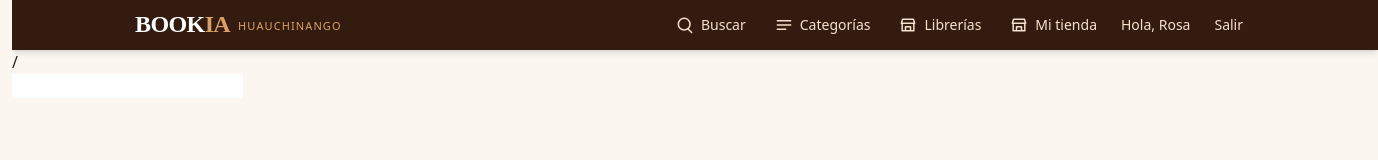
Test: Header account link › hides favorites and the profile for a store owner, and links to their store panel
The image size is (1378, 160).
Check: the text "Hola, Rosa" is shown, box [1121,15,1190,34]
Check: the button "Salir" is shown, box [1202,9,1255,41]
Click the link "Mi tienda": click(1053, 25) [1009,15,1097,35]
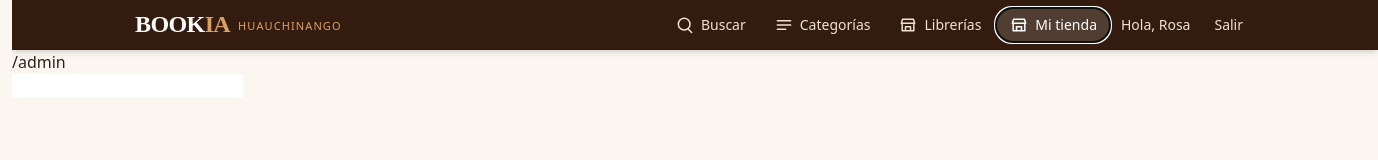
Check: the text with test id "location" reads "/admin", box [12,52,66,74]
